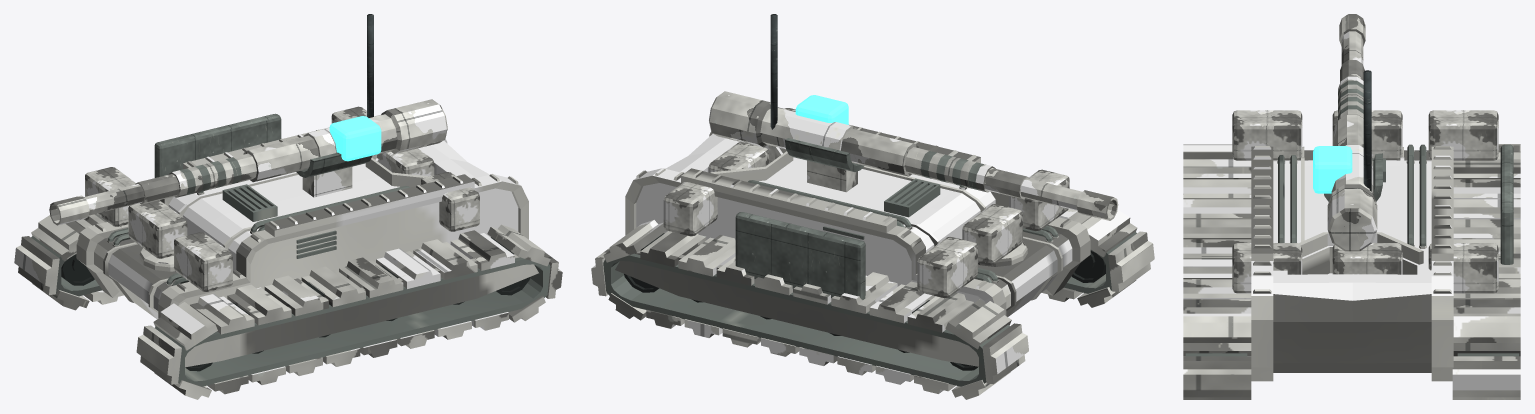
File: light_tank.glb
3 views of the same model, side by side, from view 1: azimuth 30°, elevation 25°; view 2: azimuth 150°, elevation 25°; view 3: azimuth 270°, elevation 25° (orthographic). The views are drawn at different scales.
Parts seen in each view (by area): view 1: light_tank_body_unmerged_Tank_body.001_baked, light_tank_body_team_accent, light_tank_turret_unmerged_Tank_Gun_baked, light_tank_body_team_primary, light_tank_body_factory_metal, light_tank_turret_unmerged_Tank_Turret_baked, light_tank_turret_glass_emissive, light_tank_turret_armor_dark; view 2: light_tank_body_unmerged_Tank_body.001_baked, light_tank_body_team_accent, light_tank_turret_unmerged_Tank_Gun_baked, light_tank_body_team_primary, light_tank_body_factory_metal, light_tank_turret_unmerged_Tank_Turret_baked, light_tank_turret_glass_emissive, light_tank_turret_armor_dark; view 3: light_tank_body_unmerged_Tank_body.001_baked, light_tank_body_team_accent, light_tank_body_team_primary, light_tank_turret_unmerged_Tank_Gun_baked, light_tank_body_factory_metal, light_tank_turret_glass_emissive, light_tank_turret_armor_dark, light_tank_turret_unmerged_Tank_Turret_baked.
Part boxes in pixels (box(x1,y1,x2,y2)): light_tank_body_unmerged_Tank_body.001_baked: box(31, 115, 550, 386); light_tank_body_team_accent: box(14, 214, 562, 399); light_tank_turret_unmerged_Tank_Gun_baked: box(49, 99, 447, 225); light_tank_body_team_primary: box(85, 106, 479, 291); light_tank_body_factory_metal: box(154, 113, 281, 177); light_tank_turret_unmerged_Tank_Turret_baked: box(296, 152, 372, 197); light_tank_turret_glass_emissive: box(329, 116, 381, 161); light_tank_turret_armor_dark: box(367, 14, 373, 117); light_tank_body_unmerged_Tank_body.001_baked: box(603, 107, 1136, 386); light_tank_body_team_accent: box(591, 209, 1154, 399); light_tank_turret_unmerged_Tank_Gun_baked: box(709, 91, 1118, 220); light_tank_body_team_primary: box(663, 108, 1069, 298); light_tank_body_factory_metal: box(735, 212, 865, 299); light_tank_turret_unmerged_Tank_Turret_baked: box(785, 138, 864, 192); light_tank_turret_glass_emissive: box(795, 95, 848, 124); light_tank_turret_armor_dark: box(770, 14, 777, 129); light_tank_body_unmerged_Tank_body.001_baked: box(1185, 144, 1519, 381); light_tank_body_team_accent: box(1183, 144, 1520, 399); light_tank_body_team_primary: box(1232, 110, 1498, 293); light_tank_turret_unmerged_Tank_Gun_baked: box(1327, 14, 1377, 251); light_tank_body_factory_metal: box(1500, 144, 1513, 264); light_tank_turret_glass_emissive: box(1313, 146, 1352, 193); light_tank_turret_armor_dark: box(1363, 70, 1371, 191); light_tank_turret_unmerged_Tank_Turret_baked: box(1324, 153, 1382, 201).
Bounding box in the file's own units: 3.38 × 1.96 × 2.08.
6 materials, 4 textured.
